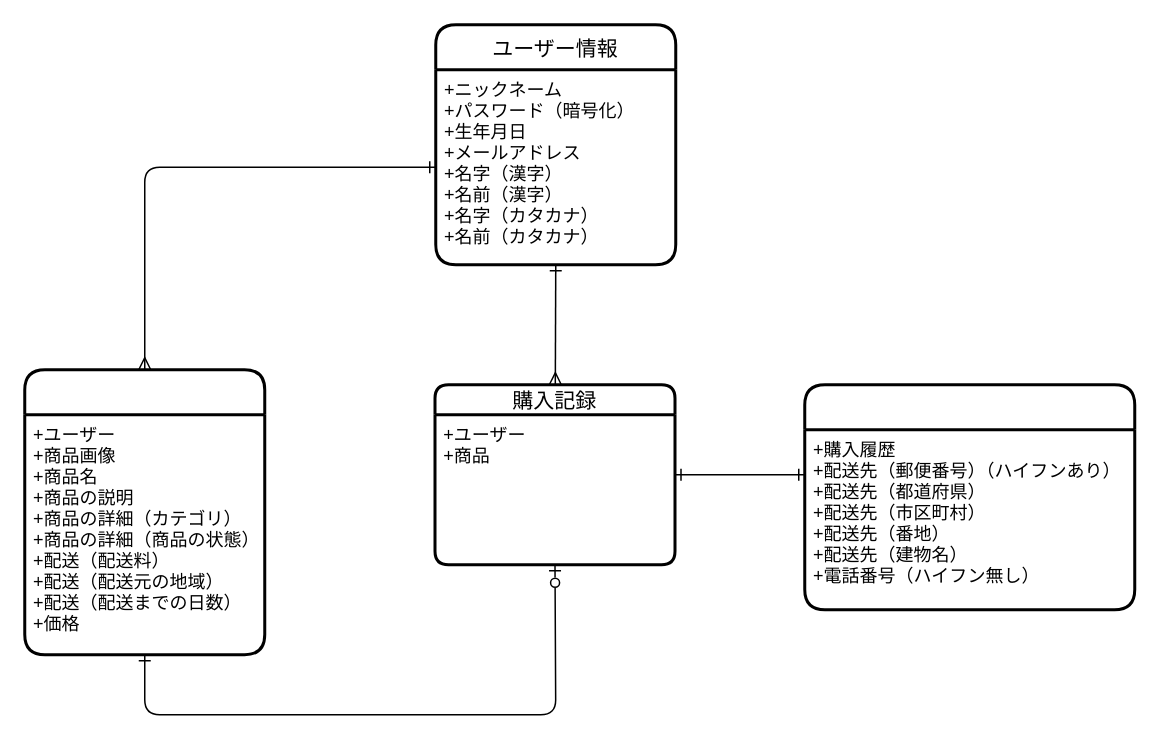
Image size: 1160x740. Some labels were removed from this diagram. The shapes that lost their labels are listed below. From the top down, each one's box as (x1, y1, x2, y2) in pixels, then its label:
(22, 368, 266, 656): 商品情報
(802, 382, 1136, 610): 配送先情報
